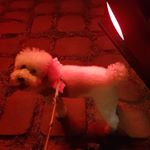puppy: (7, 45, 135, 138)
